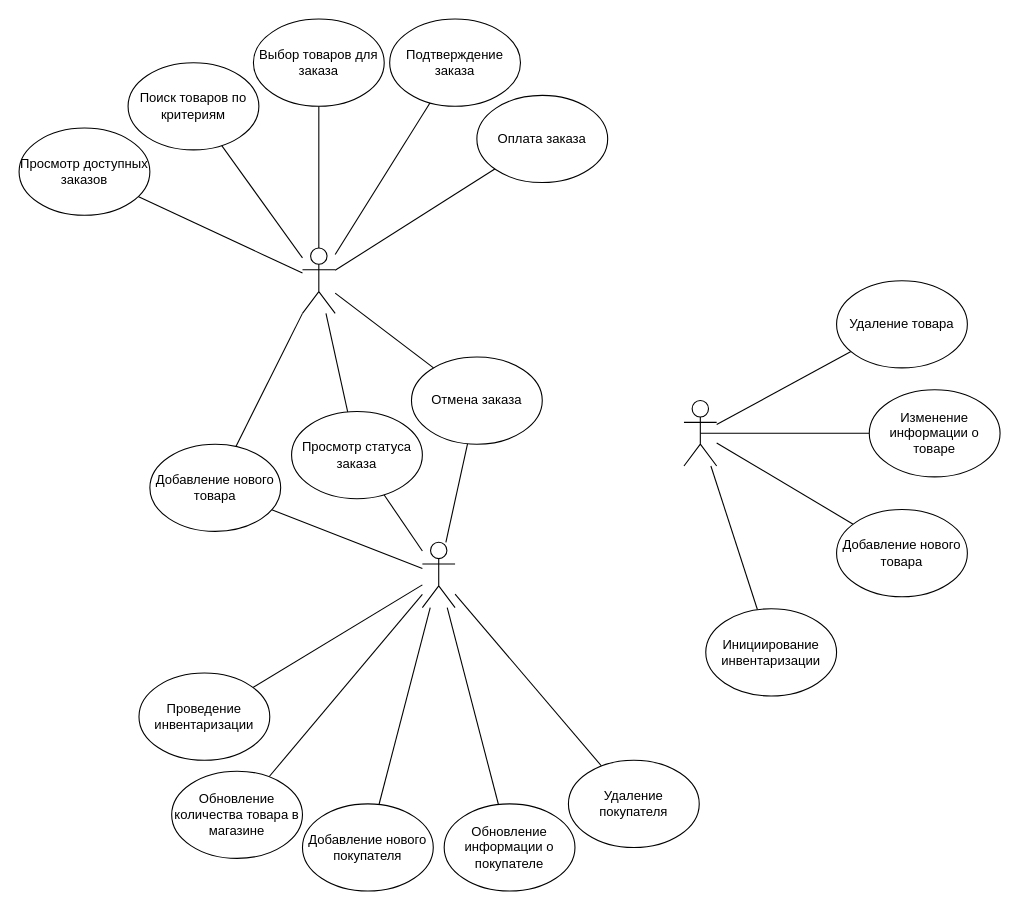
This 1019x910 diagram has some shape labels left out. The shapes that lost their labels are listed below. From the top down, each one's centre as x and y in pixels, then its label:
At [318,280]: "Customer".
At [700,432]: "Director".
At [438,574]: "Employee".
